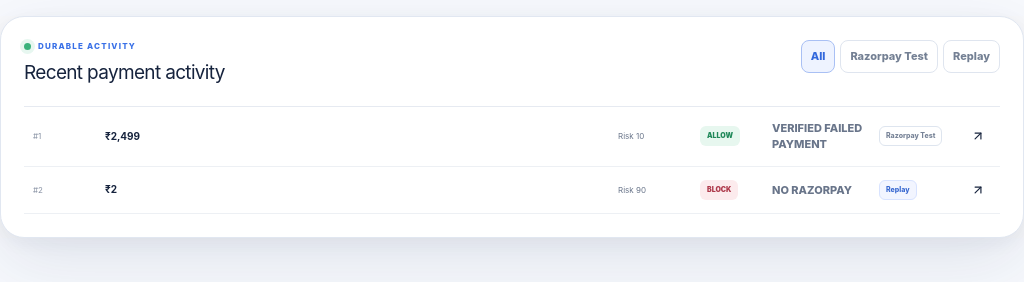
Test: ActivityFeed › keeps Razorpay Test and Replay sources explicit and filterable
This screenshot has width=1024, height=282.
Expected: the number of buttons "Replay" is 2, [943,40,1000,72]; [879,180,916,200]
Click the button "Razorpay Test" at (889, 56), box [840,40,938,72]
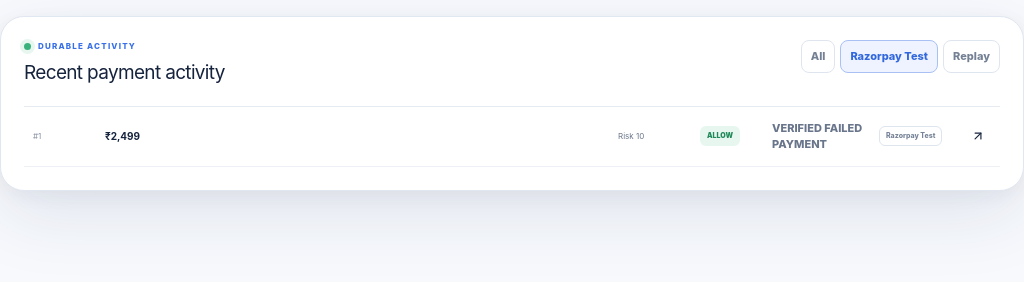
Expected: the text "VERIFIED FAILED PAYMENT" is shown, [772,120,872,152]
Expected: the button "NO RAZORPAY" is gone
